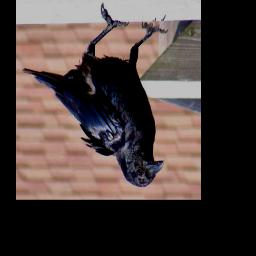Crow: (23, 2, 168, 188)
